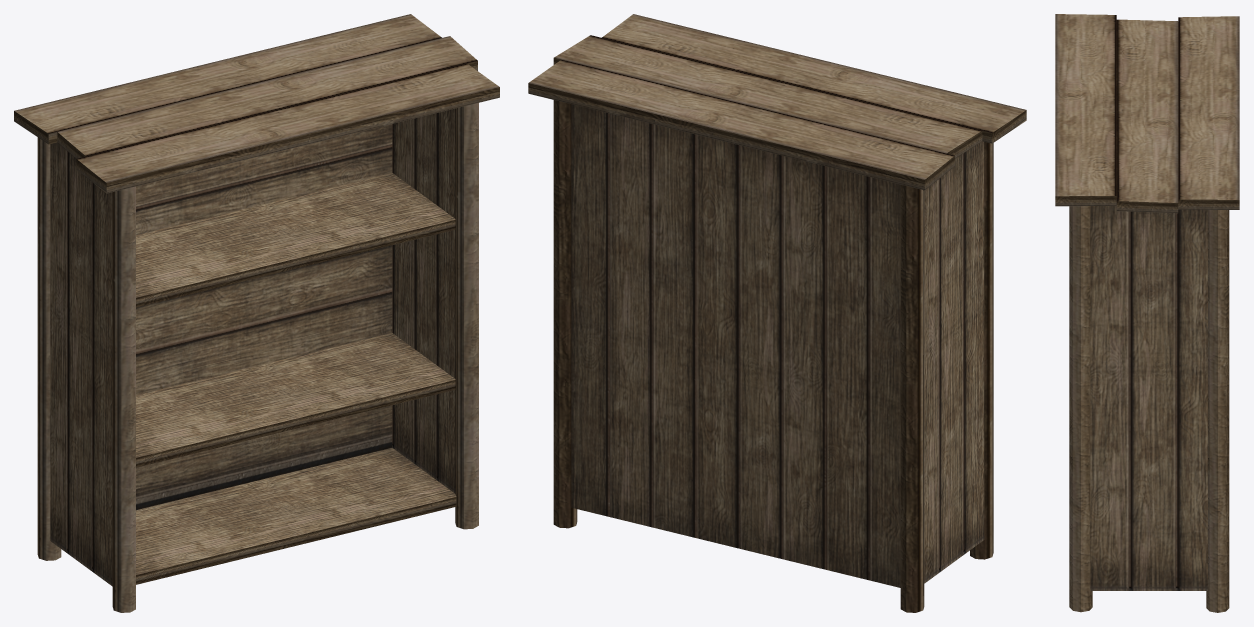
File: GS_BOOKSHELF_OPEN_YELLOW_01_KOZA.glb
The picture shows the model from 3 angles, left to right: view 1: azimuth 30°, elevation 25°; view 2: azimuth 150°, elevation 25°; view 3: azimuth 270°, elevation 25°; orthographic projection. The views are drawn at different scales.
Visible parts, largest first — view 1: GS_BOOKSHELF_OPEN_YELLOW_01_KOZA; view 2: GS_BOOKSHELF_OPEN_YELLOW_01_KOZA; view 3: GS_BOOKSHELF_OPEN_YELLOW_01_KOZA.
Part boxes in pixels (x1,y1,x2,y2): GS_BOOKSHELF_OPEN_YELLOW_01_KOZA: [14, 14, 499, 612]; GS_BOOKSHELF_OPEN_YELLOW_01_KOZA: [528, 14, 1026, 612]; GS_BOOKSHELF_OPEN_YELLOW_01_KOZA: [1055, 14, 1239, 612].
Bounding box in the file's own units: 1.4 × 1.45 × 0.5776.
2 materials, 2 textured.
